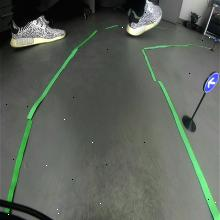left: (202, 71, 219, 94)
